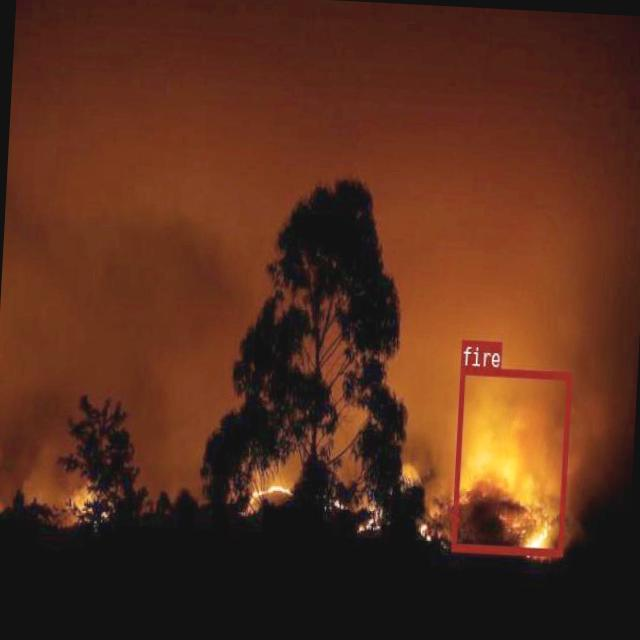fire: (452, 366, 570, 555)
